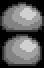slime: (1, 33, 43, 67), (0, 1, 44, 33)
